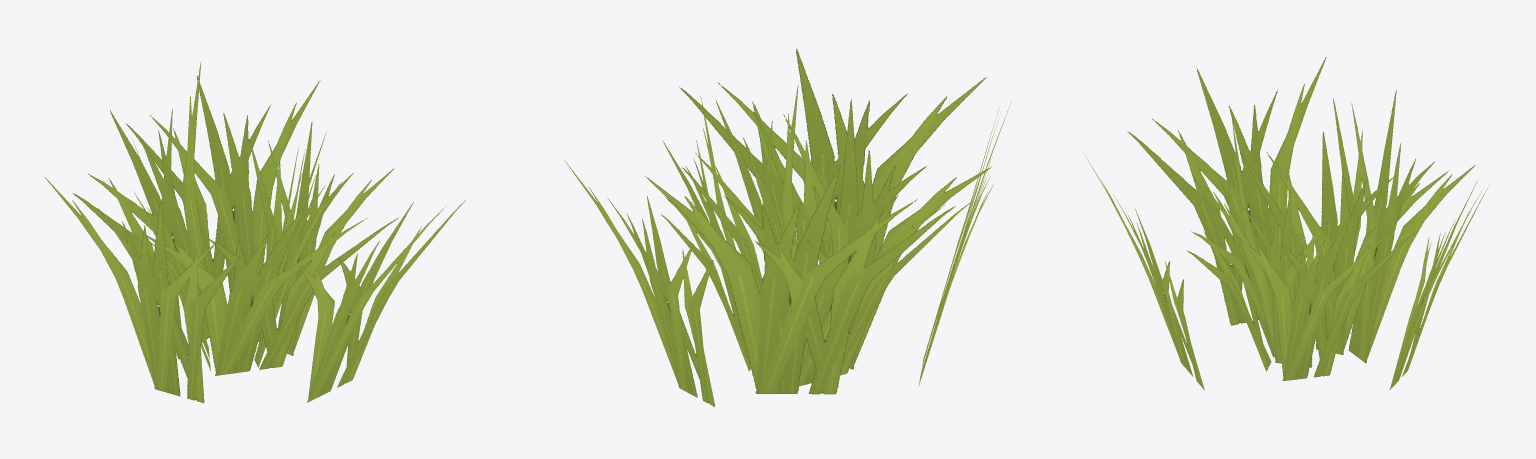
Rendered from Furn_Grass_Lawn_B.fbx.
3 renders of one model, left to right at view 1: azimuth 30°, elevation 25°; view 2: azimuth 150°, elevation 25°; view 3: azimuth 270°, elevation 25°, orthographic. The views are drawn at different scales.
Visible parts, largest first — view 1: Furn_Grass_Lawn_B; view 2: Furn_Grass_Lawn_B; view 3: Furn_Grass_Lawn_B.
Part boxes in pixels (x1,y1,x2,y2): Furn_Grass_Lawn_B: (45, 61, 465, 403); Furn_Grass_Lawn_B: (564, 49, 1010, 406); Furn_Grass_Lawn_B: (1083, 57, 1489, 389).
Size of the model in its own units: 0.3 by 0.18 by 0.3.
Materials: 1 (1 with a texture image).
